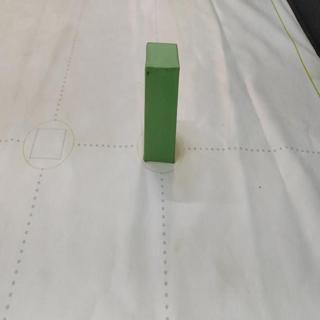greenbox: (142, 41, 182, 165)
